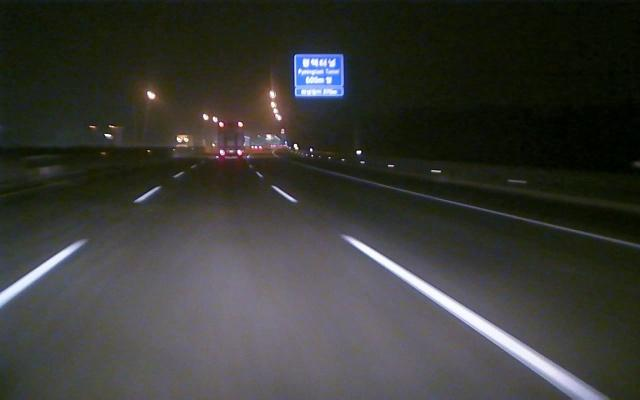lane: (273, 186, 609, 399), (1, 189, 156, 306), (379, 183, 640, 249)
